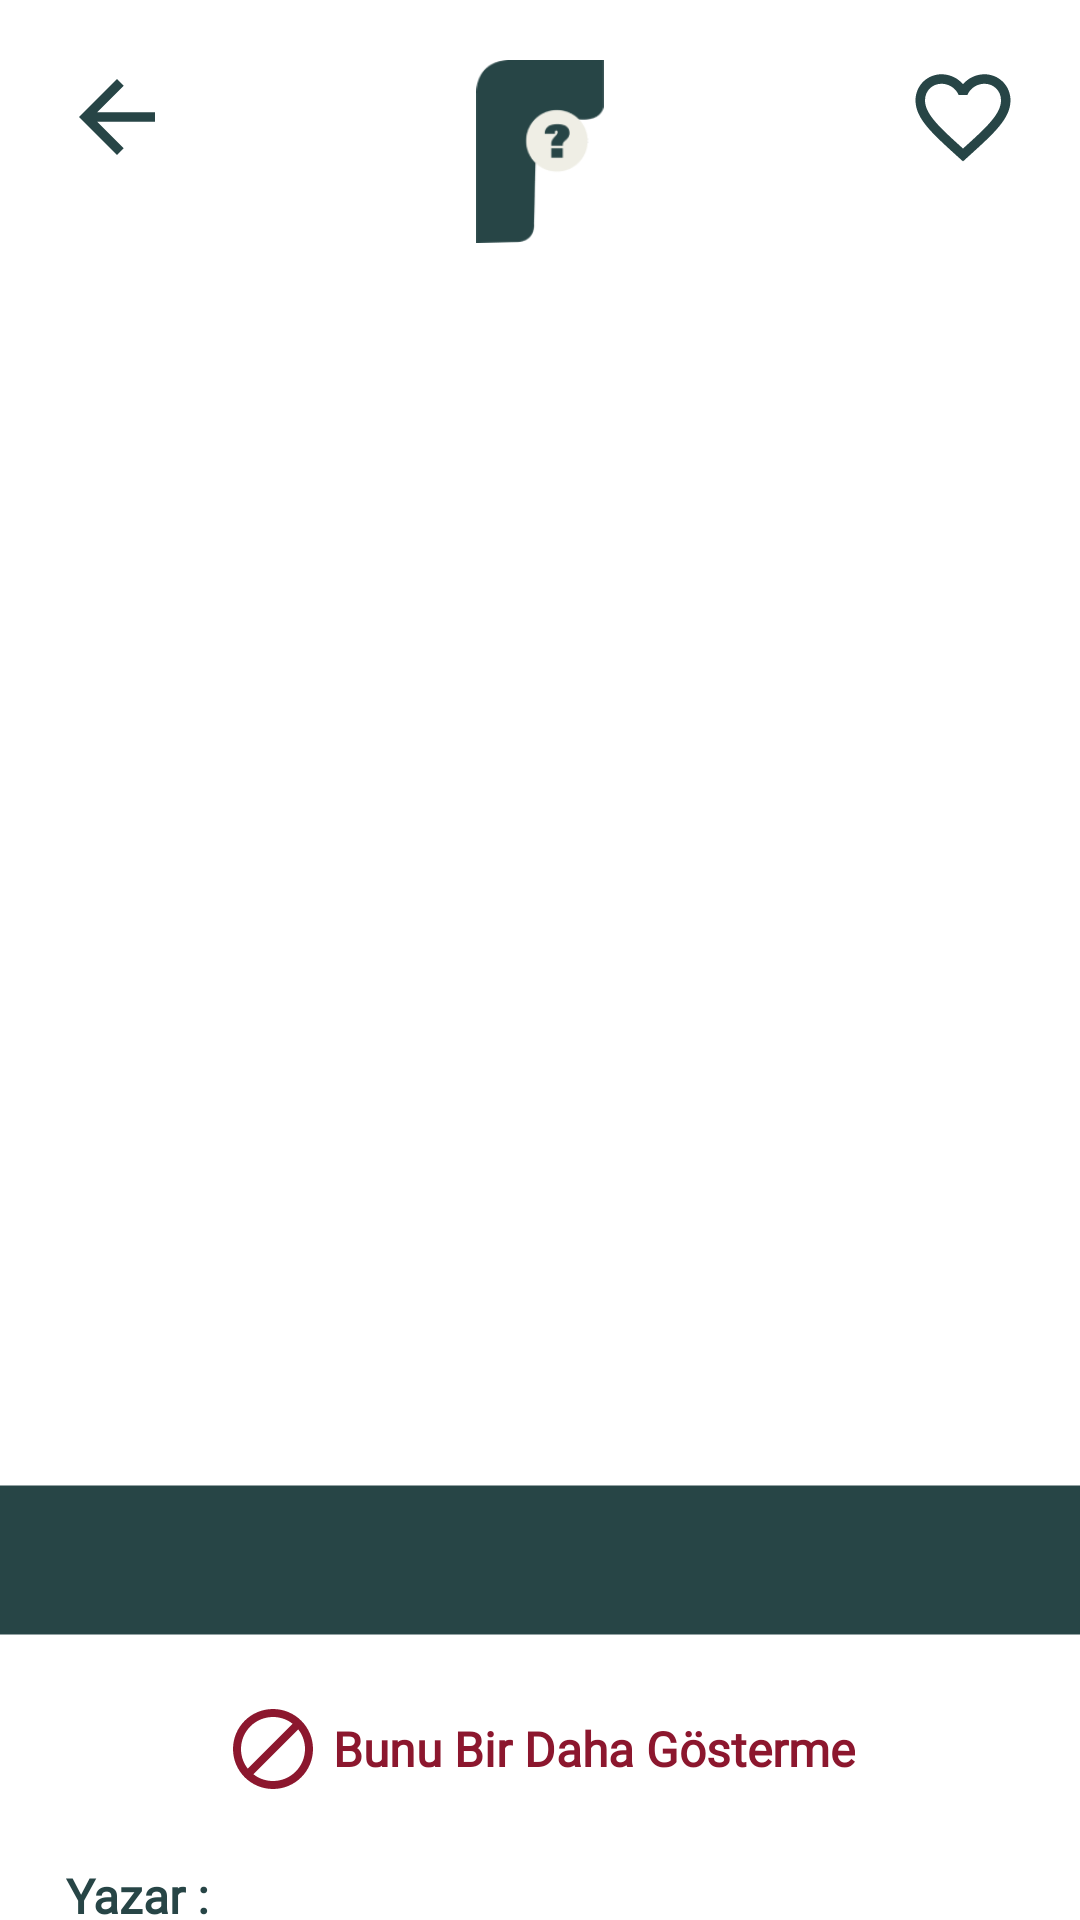

Screen size 1080w x 1920h. Icon name, then its box in pixels as [x1=x1, y1=y1, x2=x2, y2=y2]:
favorite border: [x1=915, y1=74, x2=1011, y2=161]
